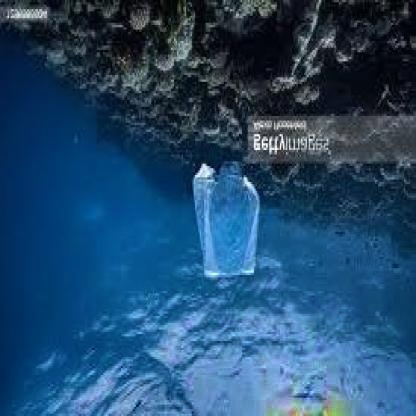pbag: (192, 161, 260, 280)
